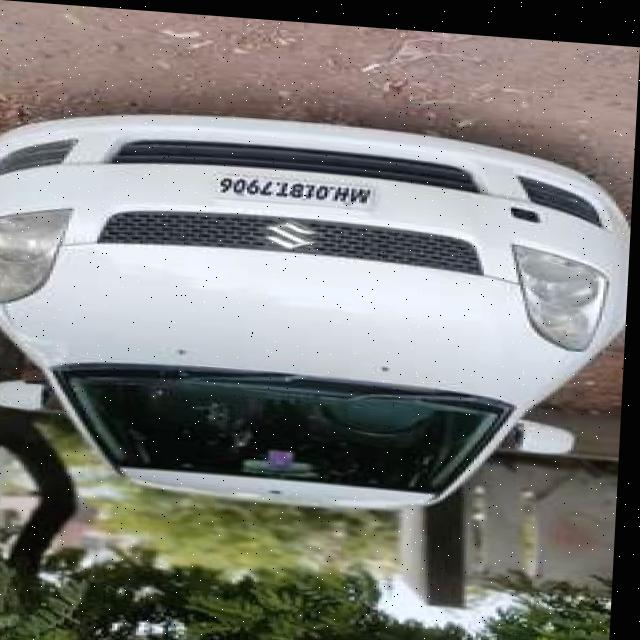plate: (214, 169, 376, 206)
